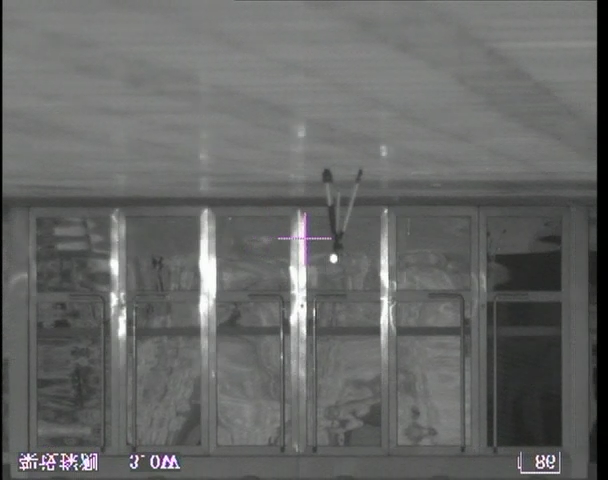my: (329, 254, 338, 264)
